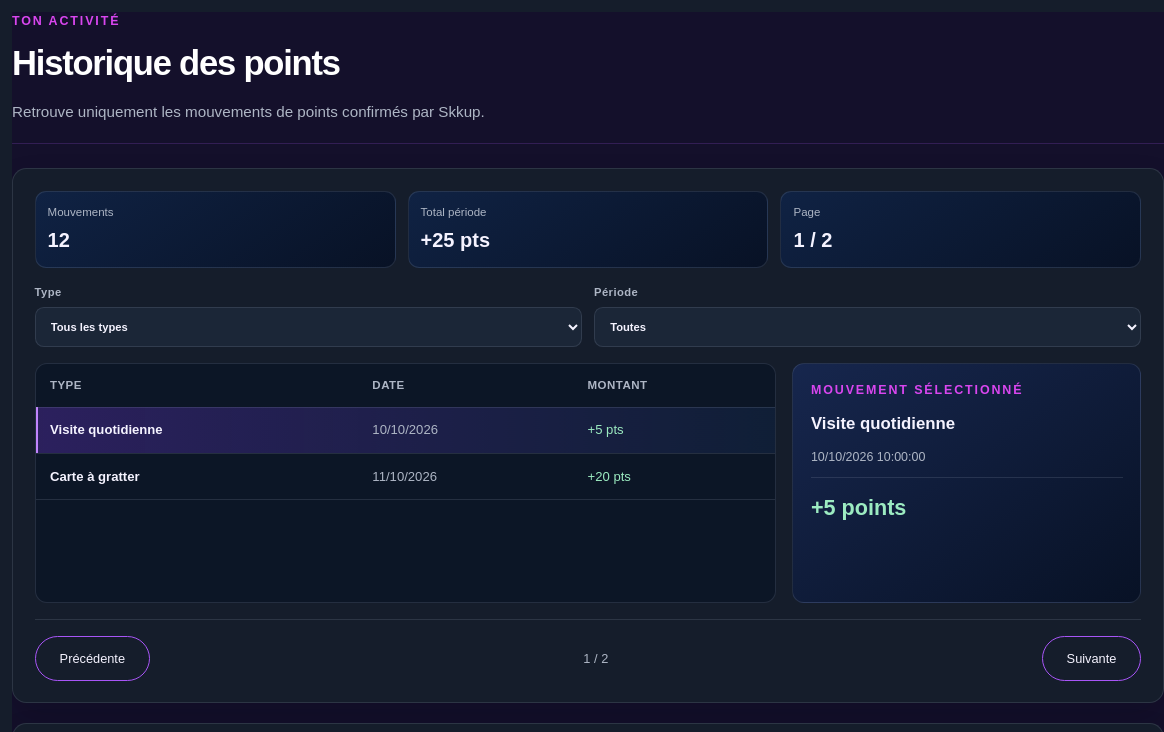
Test: HistoriquePointsViewer › filtre les mouvements par type et met à jour le total affiché
This screenshot has width=1164, height=732.
Check: the row "Visite quotidienne 10/10/2026 +5 pts" is shown, box [36,407,775,453]
Step 1. Select "Carte à gratter" in the dropdown labelled "Type" → (308, 327), box [35,307,582,347]
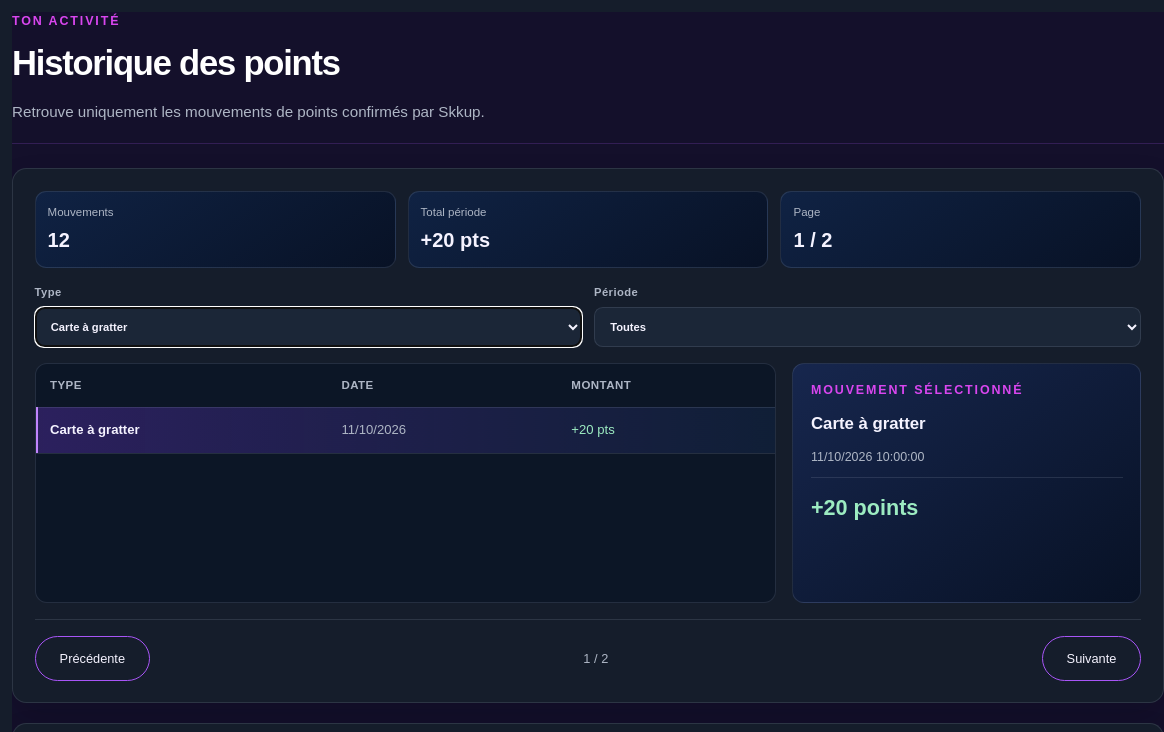
Check: the row "Carte à gratter 11/10/2026 +20 pts" is shown, box [36,407,775,453]
Check: the column heading "Visite quotidienne" is gone
Check: the text "+20 pts" is shown, box [420,229,490,251]
